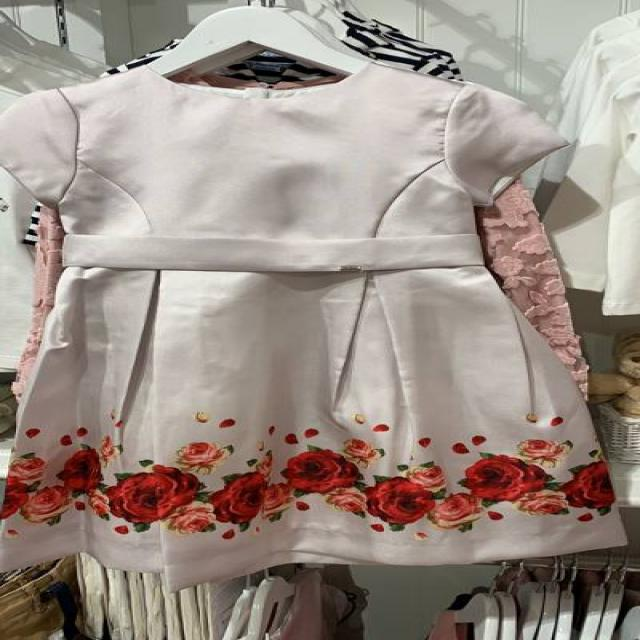Clothes -Biodegradable-: (0, 10, 628, 595), (540, 11, 640, 312)
